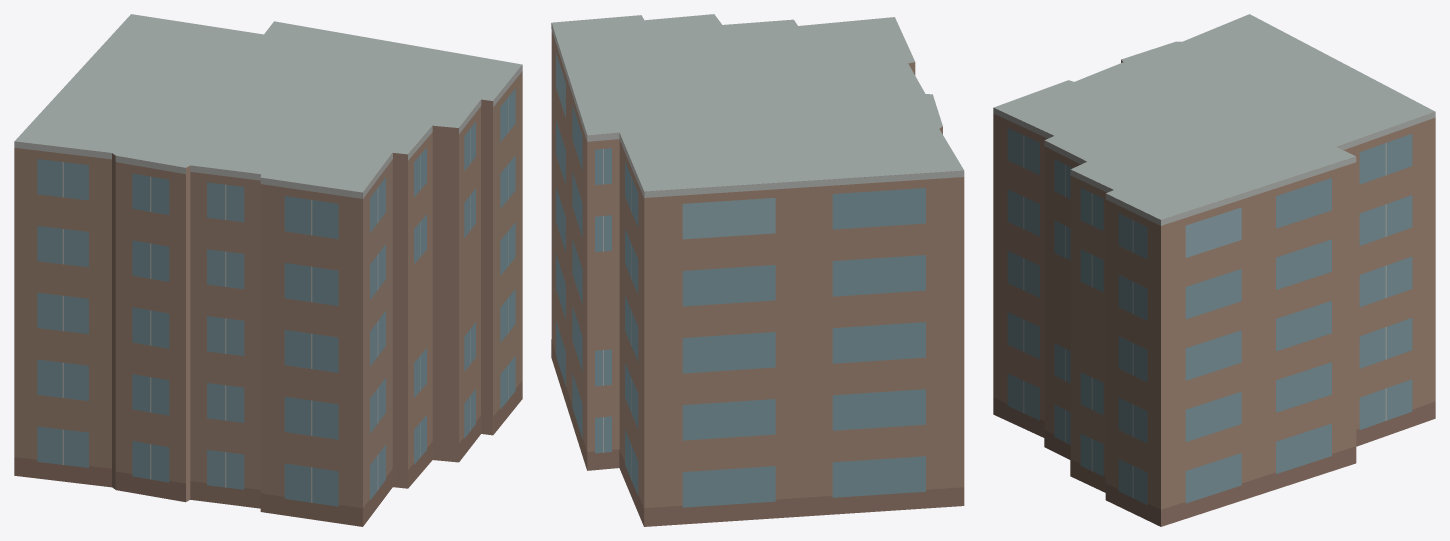
Rendered from survey-upis-32724236.glb.
The picture shows the model from 3 angles, left to right: view 1: azimuth 30°, elevation 25°; view 2: azimuth 150°, elevation 25°; view 3: azimuth 270°, elevation 25°; orthographic projection. The views are drawn at different scales.
Parts seen in each view (by area): view 1: survey-upis-32724236.tmp; view 2: survey-upis-32724236.tmp; view 3: survey-upis-32724236.tmp.
Part boxes in pixels (bbox=[...]): survey-upis-32724236.tmp: bbox=[14, 14, 522, 526]; survey-upis-32724236.tmp: bbox=[551, 14, 964, 526]; survey-upis-32724236.tmp: bbox=[993, 14, 1435, 526].
Size of the model in its own units: 18.29 by 12.7 by 16.59.
